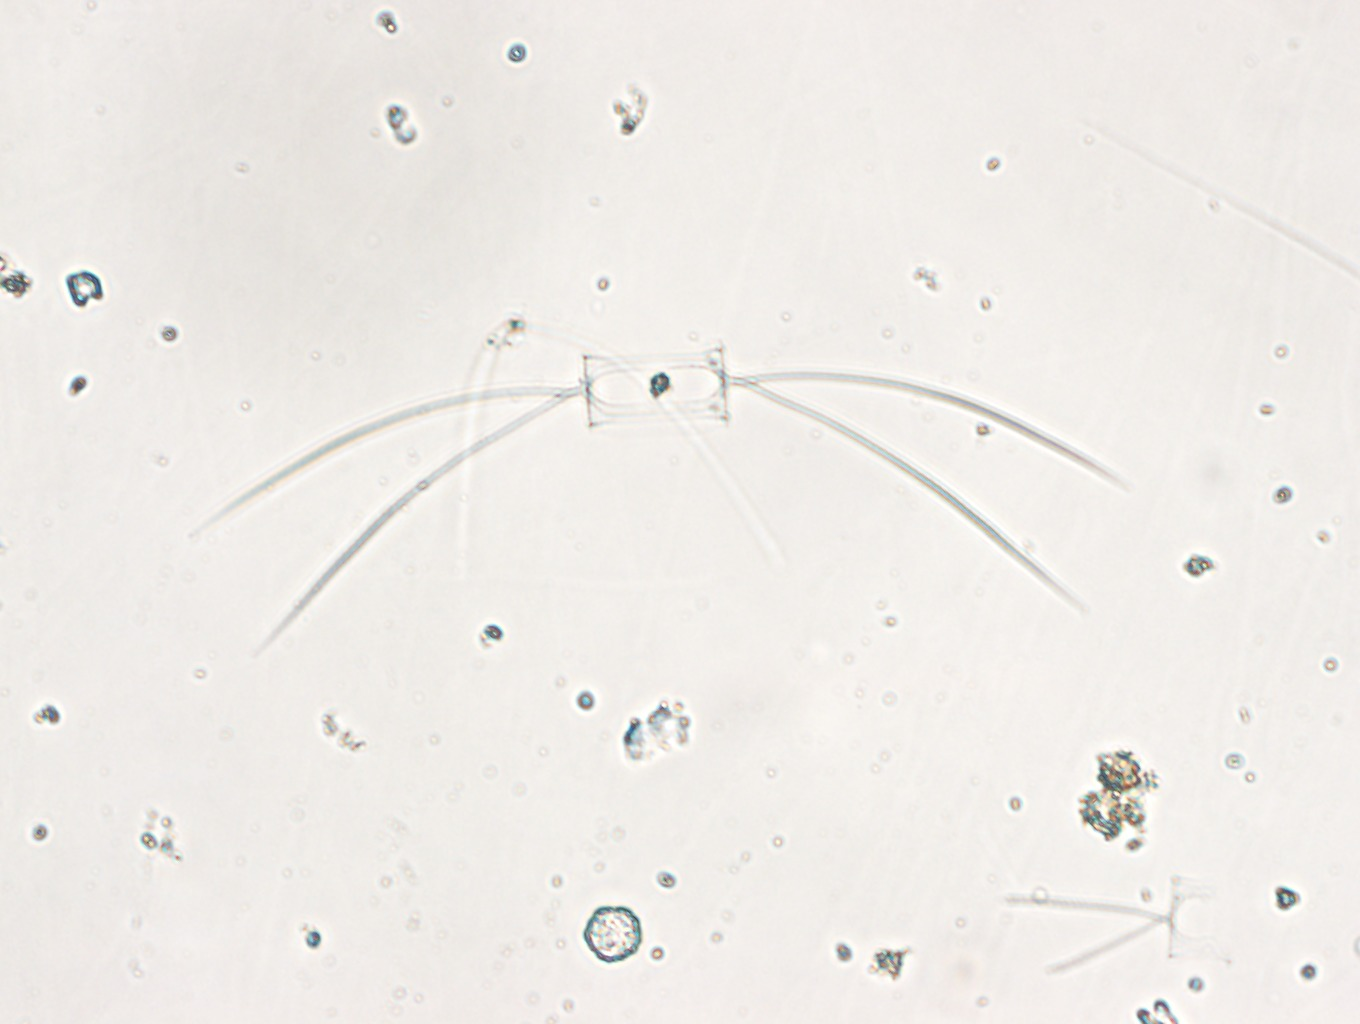chaetoceros: (188, 338, 1139, 654)
